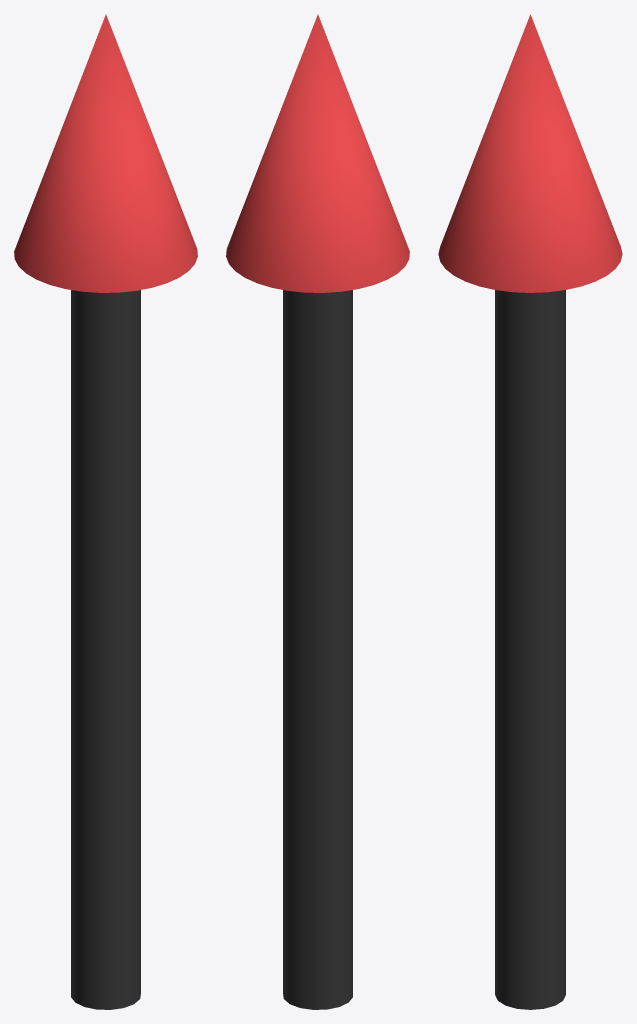
Rendered from Arrow.fbx.
3 renders of one model, left to right at view 1: azimuth 30°, elevation 25°; view 2: azimuth 150°, elevation 25°; view 3: azimuth 270°, elevation 25°, orthographic.
Parts seen in each view (by area): view 1: Cylinder; view 2: Cylinder; view 3: Cylinder.
Part boxes in pixels (bbox=[...]): Cylinder: bbox=[14, 14, 197, 1009]; Cylinder: bbox=[226, 14, 409, 1009]; Cylinder: bbox=[438, 14, 622, 1009].
Size of the model in its own units: 21.02 by 124 by 21.02.
